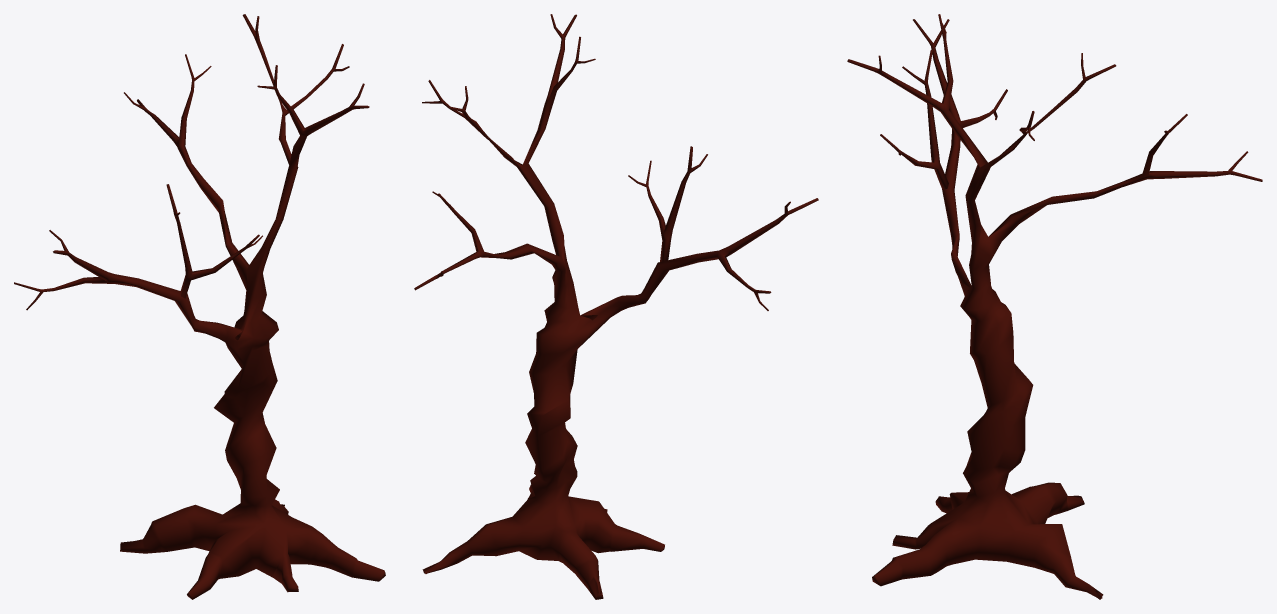
File: HWN20_Tree_04.glb
3 renders of one model, left to right at view 1: azimuth 30°, elevation 25°; view 2: azimuth 150°, elevation 25°; view 3: azimuth 270°, elevation 25°, orthographic. The views are drawn at different scales.
Visible parts, largest first — view 1: HWN20_Tree_04; view 2: HWN20_Tree_04; view 3: HWN20_Tree_04.
Boxes of the visible parts, x1,y1,x2,y2 form: HWN20_Tree_04: [14, 14, 385, 599]; HWN20_Tree_04: [414, 14, 818, 599]; HWN20_Tree_04: [847, 14, 1262, 599].
Size of what is drawn, in the model's own units: 3.48 by 4.89 by 3.39.
Materials: 1 (1 with a texture image).
